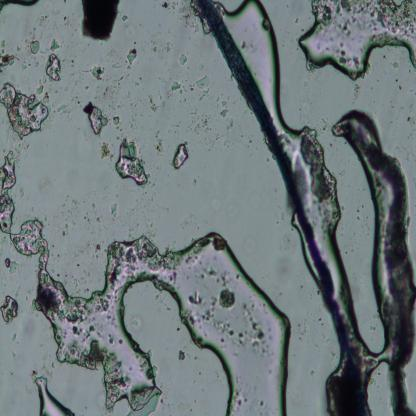Air bubble: (38, 232, 288, 416), (300, 0, 415, 78), (236, 0, 284, 106), (34, 374, 76, 416)
Background material: (0, 151, 44, 257), (0, 82, 50, 138), (189, 104, 234, 160), (228, 298, 269, 352), (83, 325, 121, 374), (116, 137, 152, 188), (80, 0, 120, 42), (61, 296, 108, 329), (179, 287, 218, 323), (82, 100, 111, 136), (43, 40, 63, 86), (36, 282, 59, 319), (0, 38, 19, 77), (0, 292, 20, 324), (80, 200, 102, 228), (100, 77, 124, 102), (52, 219, 74, 244), (0, 0, 42, 12), (173, 140, 190, 168), (148, 129, 164, 158), (149, 96, 168, 118), (218, 285, 237, 307), (97, 138, 114, 162), (275, 254, 292, 278), (195, 76, 210, 101), (26, 36, 42, 58), (124, 47, 139, 68), (90, 63, 107, 81), (5, 256, 20, 275), (54, 101, 68, 117), (111, 115, 124, 132), (172, 82, 185, 96), (110, 201, 119, 221), (175, 348, 186, 362), (74, 96, 84, 107), (178, 56, 189, 66), (92, 240, 102, 251)
Cellulose filter fibre: (325, 100, 416, 412)
Cotton: (199, 1, 366, 416)
